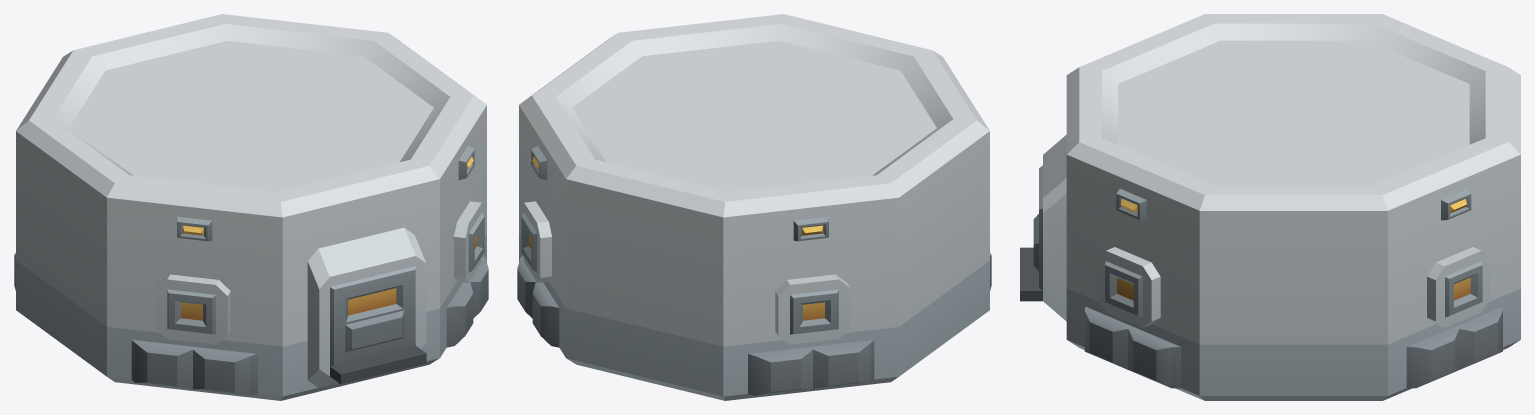
Rendered from kaykit_basemodule_c_v01.glb.
3 views of the same model, side by side, from view 1: azimuth 30°, elevation 25°; view 2: azimuth 150°, elevation 25°; view 3: azimuth 270°, elevation 25° (orthographic). The views are drawn at different scales.
Visible parts, largest first — view 1: basemodule_C; view 2: basemodule_C; view 3: basemodule_C.
Boxes of the visible parts, x1,y1,x2,y2 form: basemodule_C: (14,14,488,400); basemodule_C: (517,14,991,400); basemodule_C: (1020,14,1520,400).
Size of the model in its own units: 2 by 1 by 2.21.
Materials: 1 (1 with a texture image).
